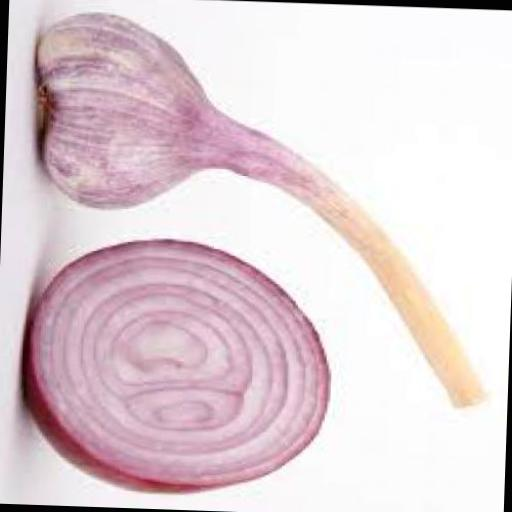biodegradable: (25, 10, 502, 410), (20, 234, 334, 500)
